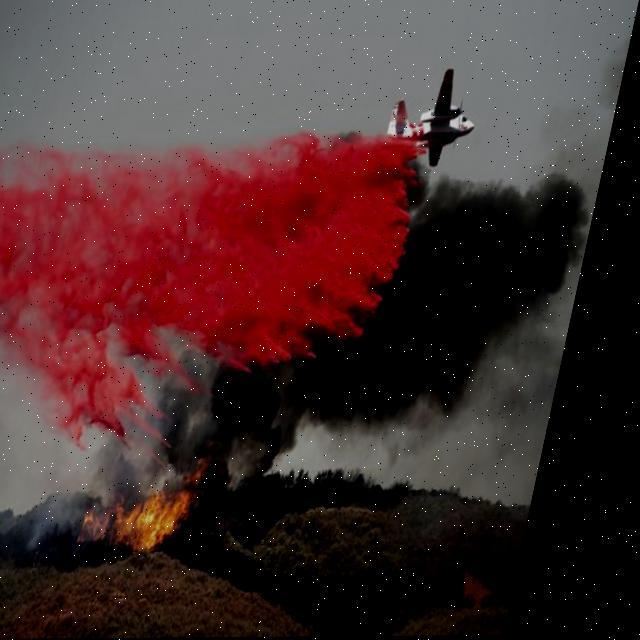Fire: (90, 469, 214, 558)
